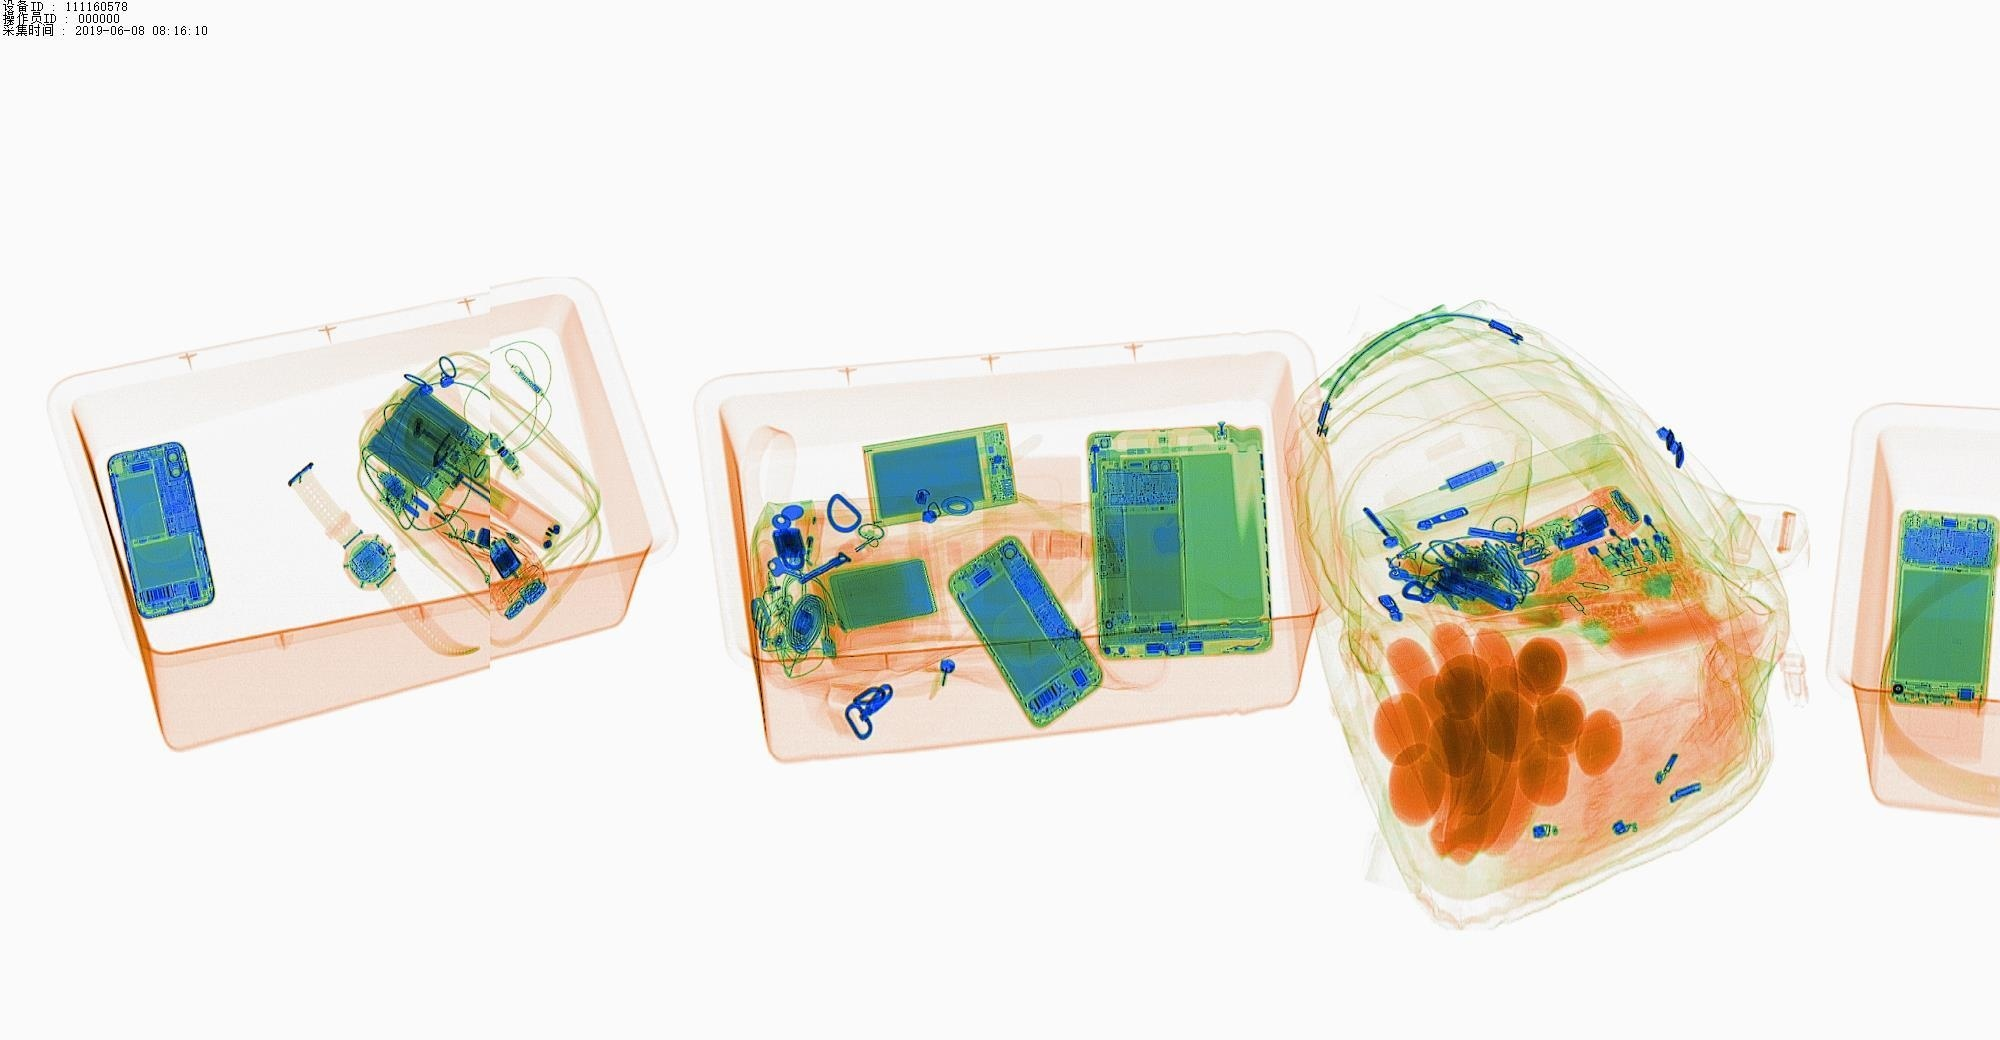NonmetallicFire: (780, 495, 839, 587)
